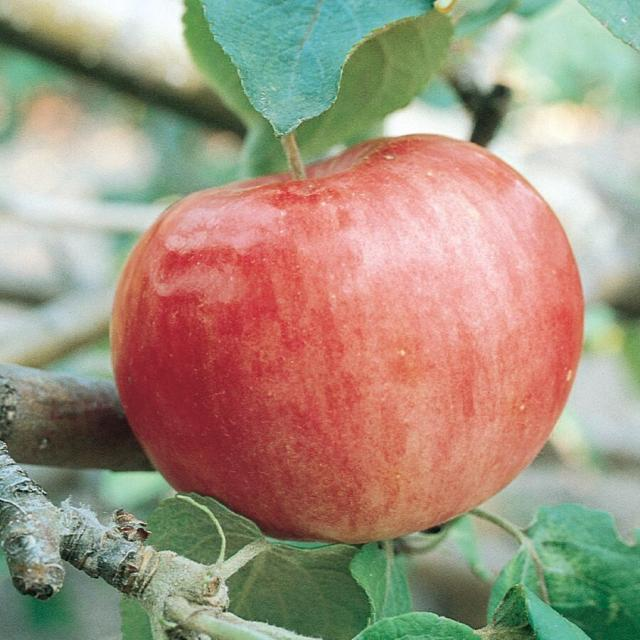Apple: (110, 127, 590, 539)
